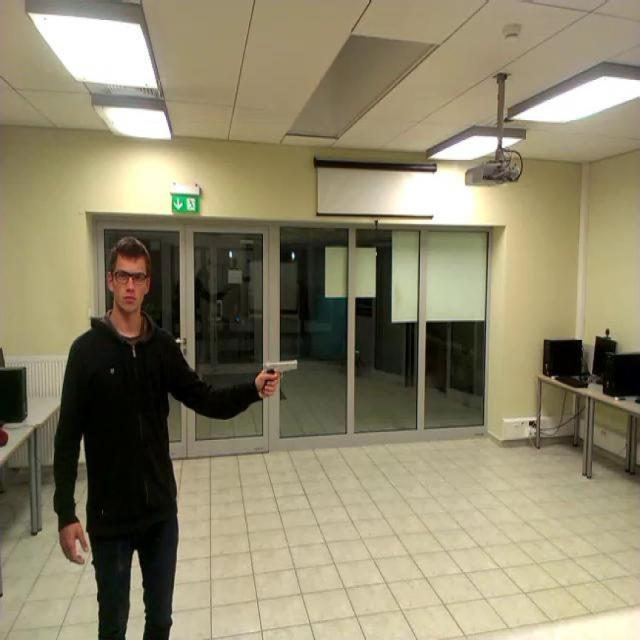pistol: (262, 358, 300, 394)
